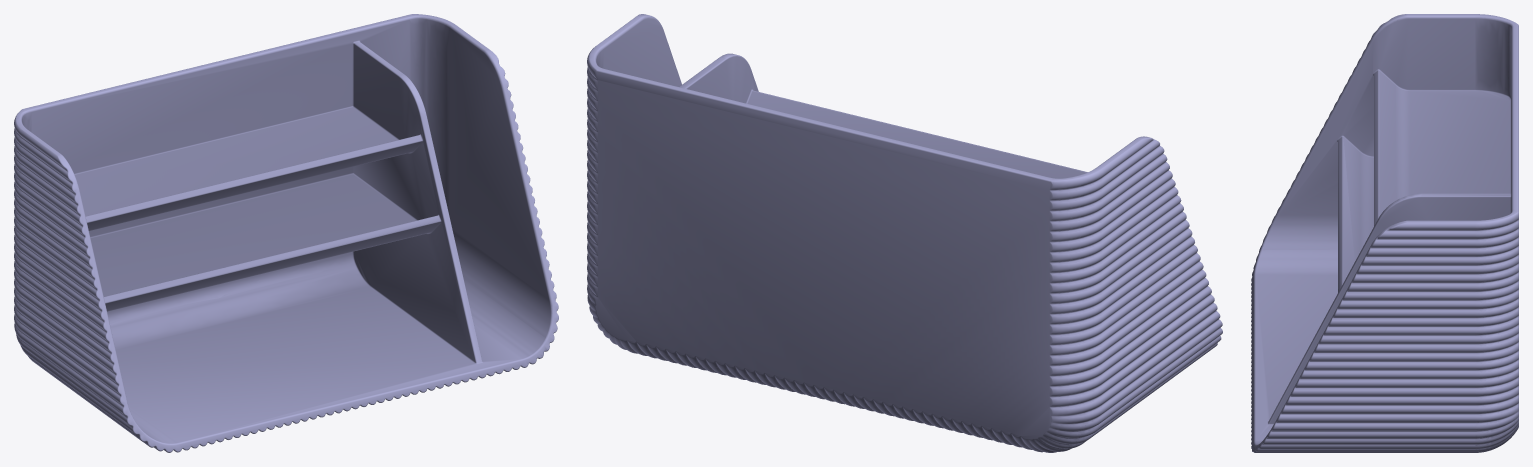
File: masa-organizeri-uzun.glb
3 renders of one model, left to right at view 1: azimuth 30°, elevation 25°; view 2: azimuth 150°, elevation 25°; view 3: azimuth 270°, elevation 25°, orthographic. The views are drawn at different scales.
Parts seen in each view (by area): view 1: Body; view 2: Body; view 3: Body.
Boxes of the visible parts, x1,y1,x2,y2 form: Body: (14, 14, 558, 452); Body: (587, 14, 1222, 452); Body: (1251, 14, 1518, 452).
Size of the model in its own units: 0.204 by 0.1117 by 0.1097.
